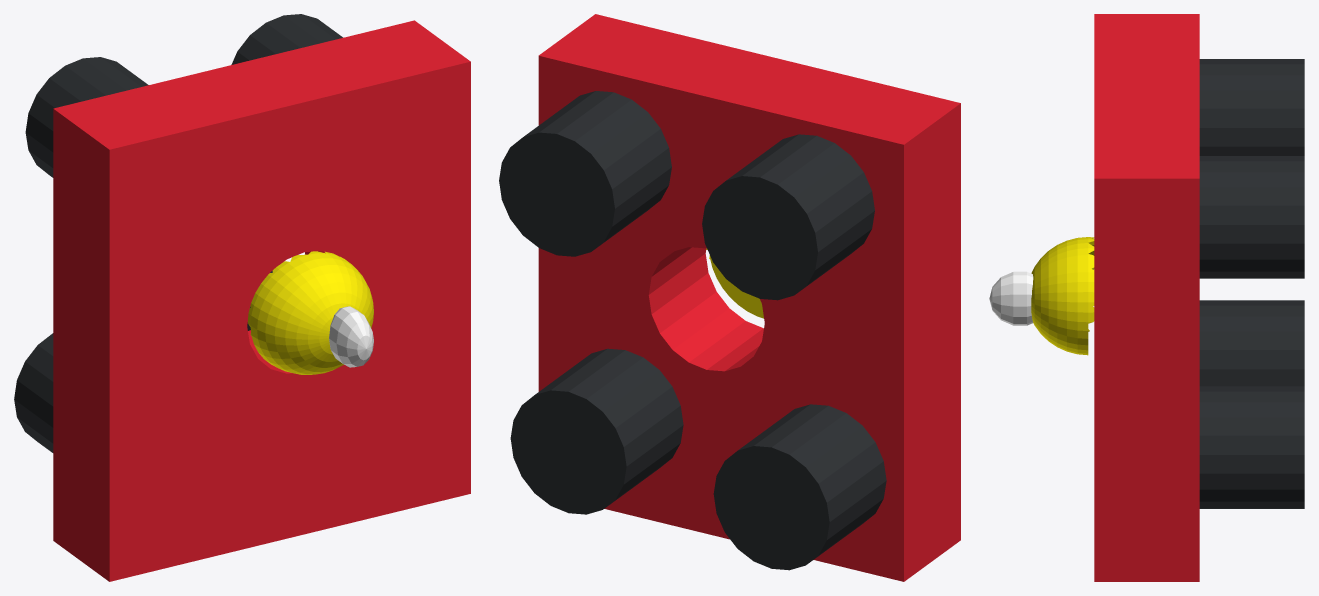
Rendered from tinker.obj.
3 renders of one model, left to right at view 1: azimuth 30°, elevation 25°; view 2: azimuth 150°, elevation 25°; view 3: azimuth 270°, elevation 25°, orthographic. The views are drawn at different scales.
Visible parts, largest first — view 1: group_0_15277357, group_0_2829873, group_0_16773120, group_0_16448250; view 2: group_0_15277357, group_0_2829873, group_0_16773120; view 3: group_0_15277357, group_0_2829873, group_0_16773120, group_0_16448250.
Boxes of the visible parts, <box> form: group_0_15277357: <box>53,20,470,581</box>; group_0_2829873: <box>14,14,342,452</box>; group_0_16773120: <box>247,251,373,374</box>; group_0_16448250: <box>329,306,373,367</box>; group_0_15277357: <box>538,14,960,581</box>; group_0_2829873: <box>499,91,886,570</box>; group_0_16773120: <box>706,248,763,318</box>; group_0_15277357: <box>1094,14,1199,581</box>; group_0_2829873: <box>1199,59,1304,508</box>; group_0_16773120: <box>1031,237,1094,355</box>; group_0_16448250: <box>989,271,1033,325</box>.
Bounding box in the file's own units: 63 × 72 × 51.
